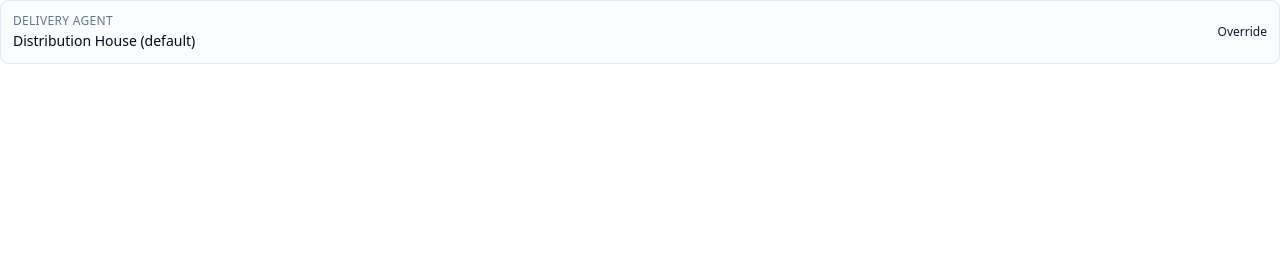
Test case: DeliveryOverrideSelector › clicking Override shows form and hides Override button
This screenshot has width=1280, height=261.
What coordinates should you click on to do the following:
click the button "Override"
I would click on:
 (1242, 32)
Its box is [1218, 24, 1267, 40].
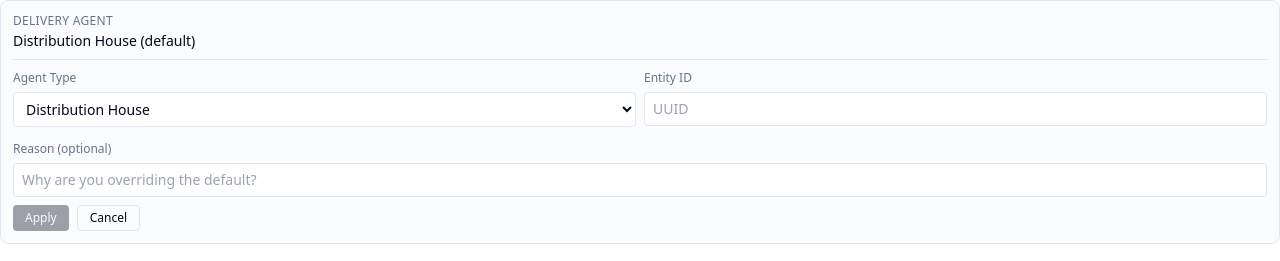
expect the button "Override" is gone: met
expect the field with placeholder "UUID" is shown: met, box [644, 92, 1267, 126]
expect the text "Agent Type" is shown: met, box [13, 69, 76, 86]
